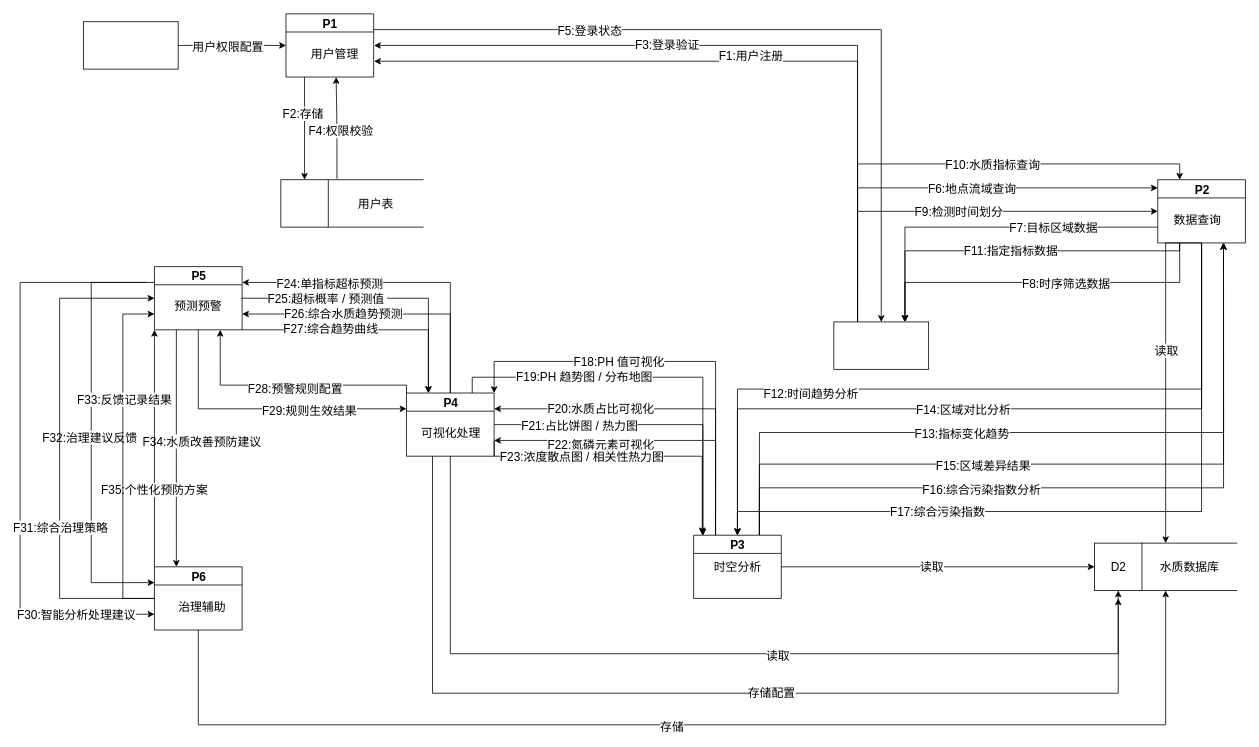
Some shapes in this 1259 by 747 pixel diagram are drawn without their labels. Each missing label, with the centre of its shape:
D1: pixel 304 203
用户: pixel 881 345
管理员: pixel 130 45
